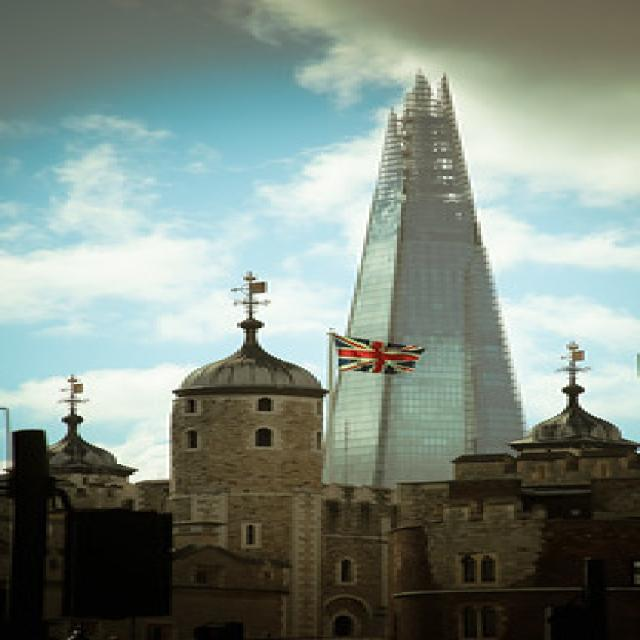building: (317, 66, 535, 510)
